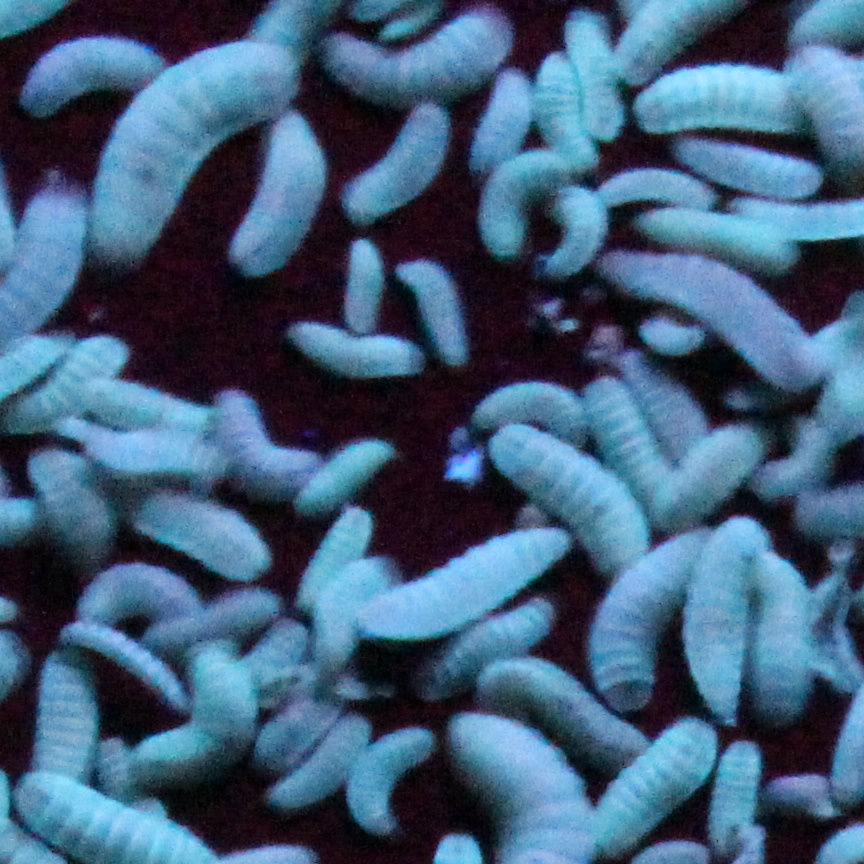larve: (88, 43, 303, 256), (602, 251, 822, 387), (483, 429, 653, 572), (589, 524, 715, 710), (353, 525, 576, 629), (233, 105, 333, 277), (324, 8, 524, 94), (688, 522, 762, 731), (419, 596, 564, 701), (57, 617, 196, 713), (345, 101, 455, 222), (658, 420, 783, 520), (19, 36, 164, 117), (131, 493, 272, 575), (631, 67, 802, 134), (3, 338, 127, 429), (207, 389, 320, 486), (643, 210, 807, 275), (345, 725, 441, 834), (588, 375, 667, 505), (31, 451, 112, 570), (396, 256, 477, 370), (270, 713, 372, 801), (758, 551, 810, 722), (533, 50, 603, 177), (481, 151, 569, 250), (284, 318, 426, 379), (296, 506, 376, 608), (565, 18, 631, 141), (74, 563, 207, 620), (474, 381, 596, 443), (289, 439, 391, 512), (752, 417, 831, 496), (469, 72, 529, 168), (719, 736, 764, 858), (91, 386, 210, 432), (600, 170, 714, 208), (343, 234, 384, 329), (633, 312, 703, 363)
